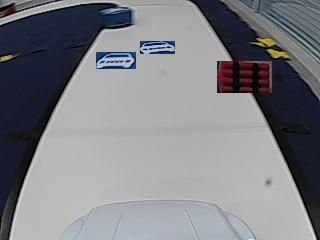prop: (101, 6, 132, 29)
